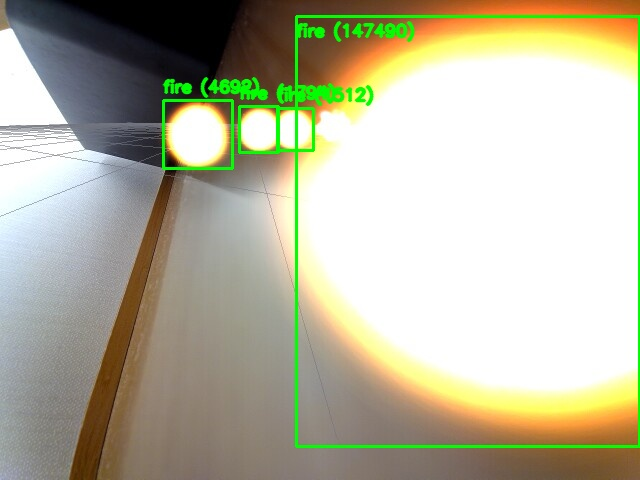fire: (296, 16, 639, 446), (163, 100, 232, 168), (239, 106, 278, 152), (277, 108, 313, 150)
